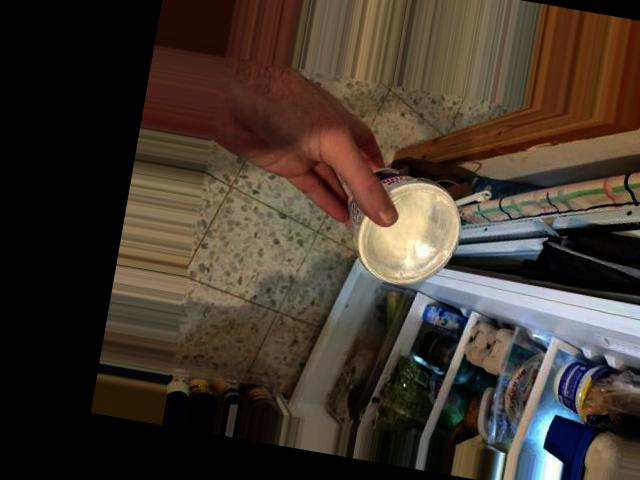cotage: (350, 156, 481, 285)
